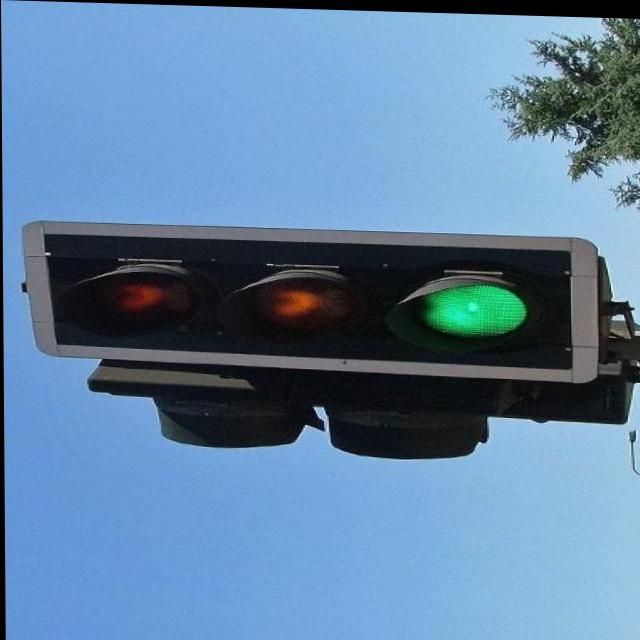green light: (43, 233, 545, 369)
